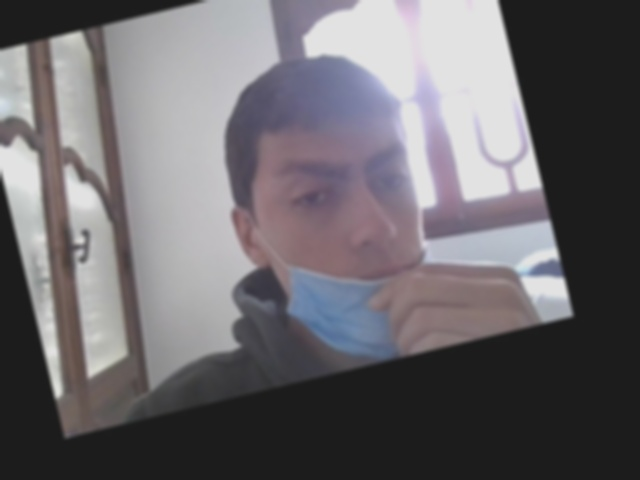mask_weared_incorrect: (234, 69, 440, 362)
